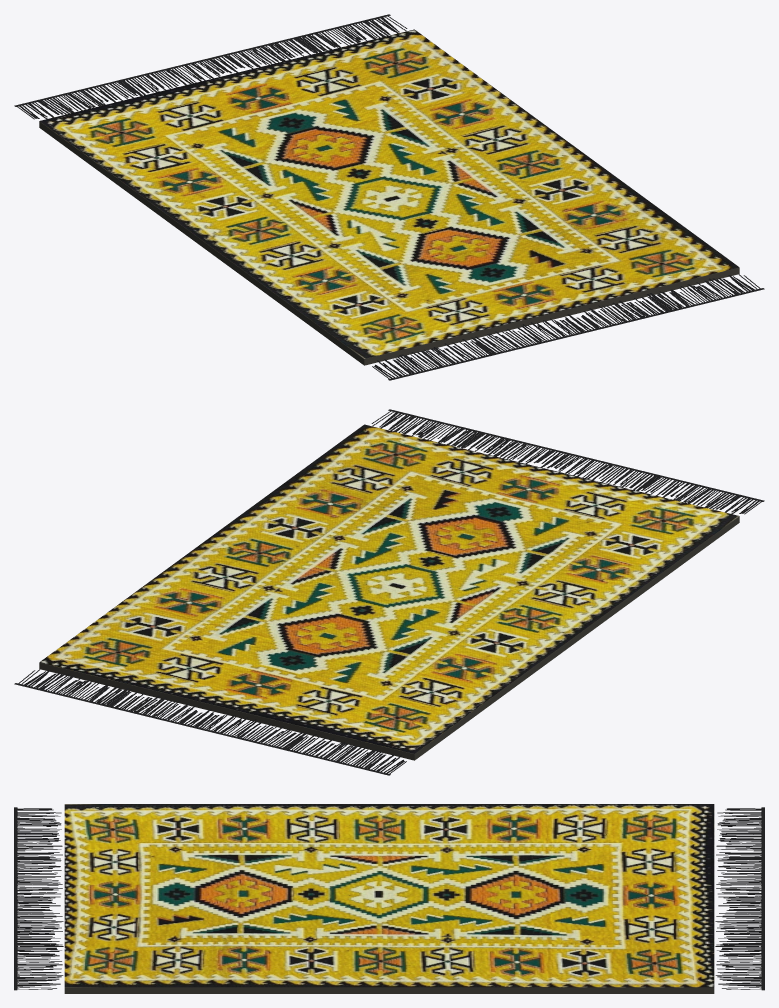
The picture shows the model from 3 angles, top to bottom: view 1: azimuth 30°, elevation 25°; view 2: azimuth 150°, elevation 25°; view 3: azimuth 270°, elevation 25°; orthographic projection.
Visible parts, largest first — view 1: rug, fringeB, fringeA, side; view 2: rug, fringeA, fringeB, side; view 3: rug, fringeB, fringeA, side.
Boxes of the visible parts, box(x1,y1,x2,y2) form: rug: box(39, 29, 739, 358); fringeB: box(372, 274, 764, 380); fringeA: box(14, 14, 407, 119); side: box(39, 121, 739, 365); rug: box(39, 424, 739, 753); fringeA: box(14, 669, 406, 775); fringeB: box(371, 409, 764, 514); side: box(39, 516, 739, 760); rug: box(64, 804, 714, 987); fringeB: box(14, 807, 63, 990); fringeA: box(715, 807, 764, 990); side: box(64, 987, 714, 993).
Size of what is drawn, in the model's own units: 0.6 by 0.0102 by 1.04.
2 materials, 2 textured.
